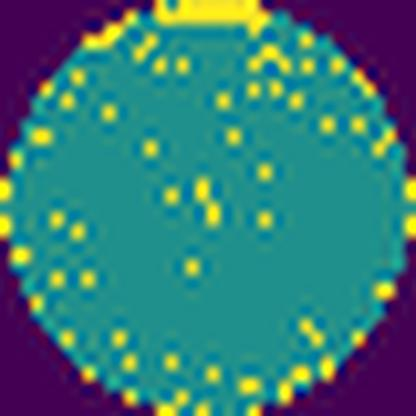Edge-Loc: (156, 0, 273, 33)
